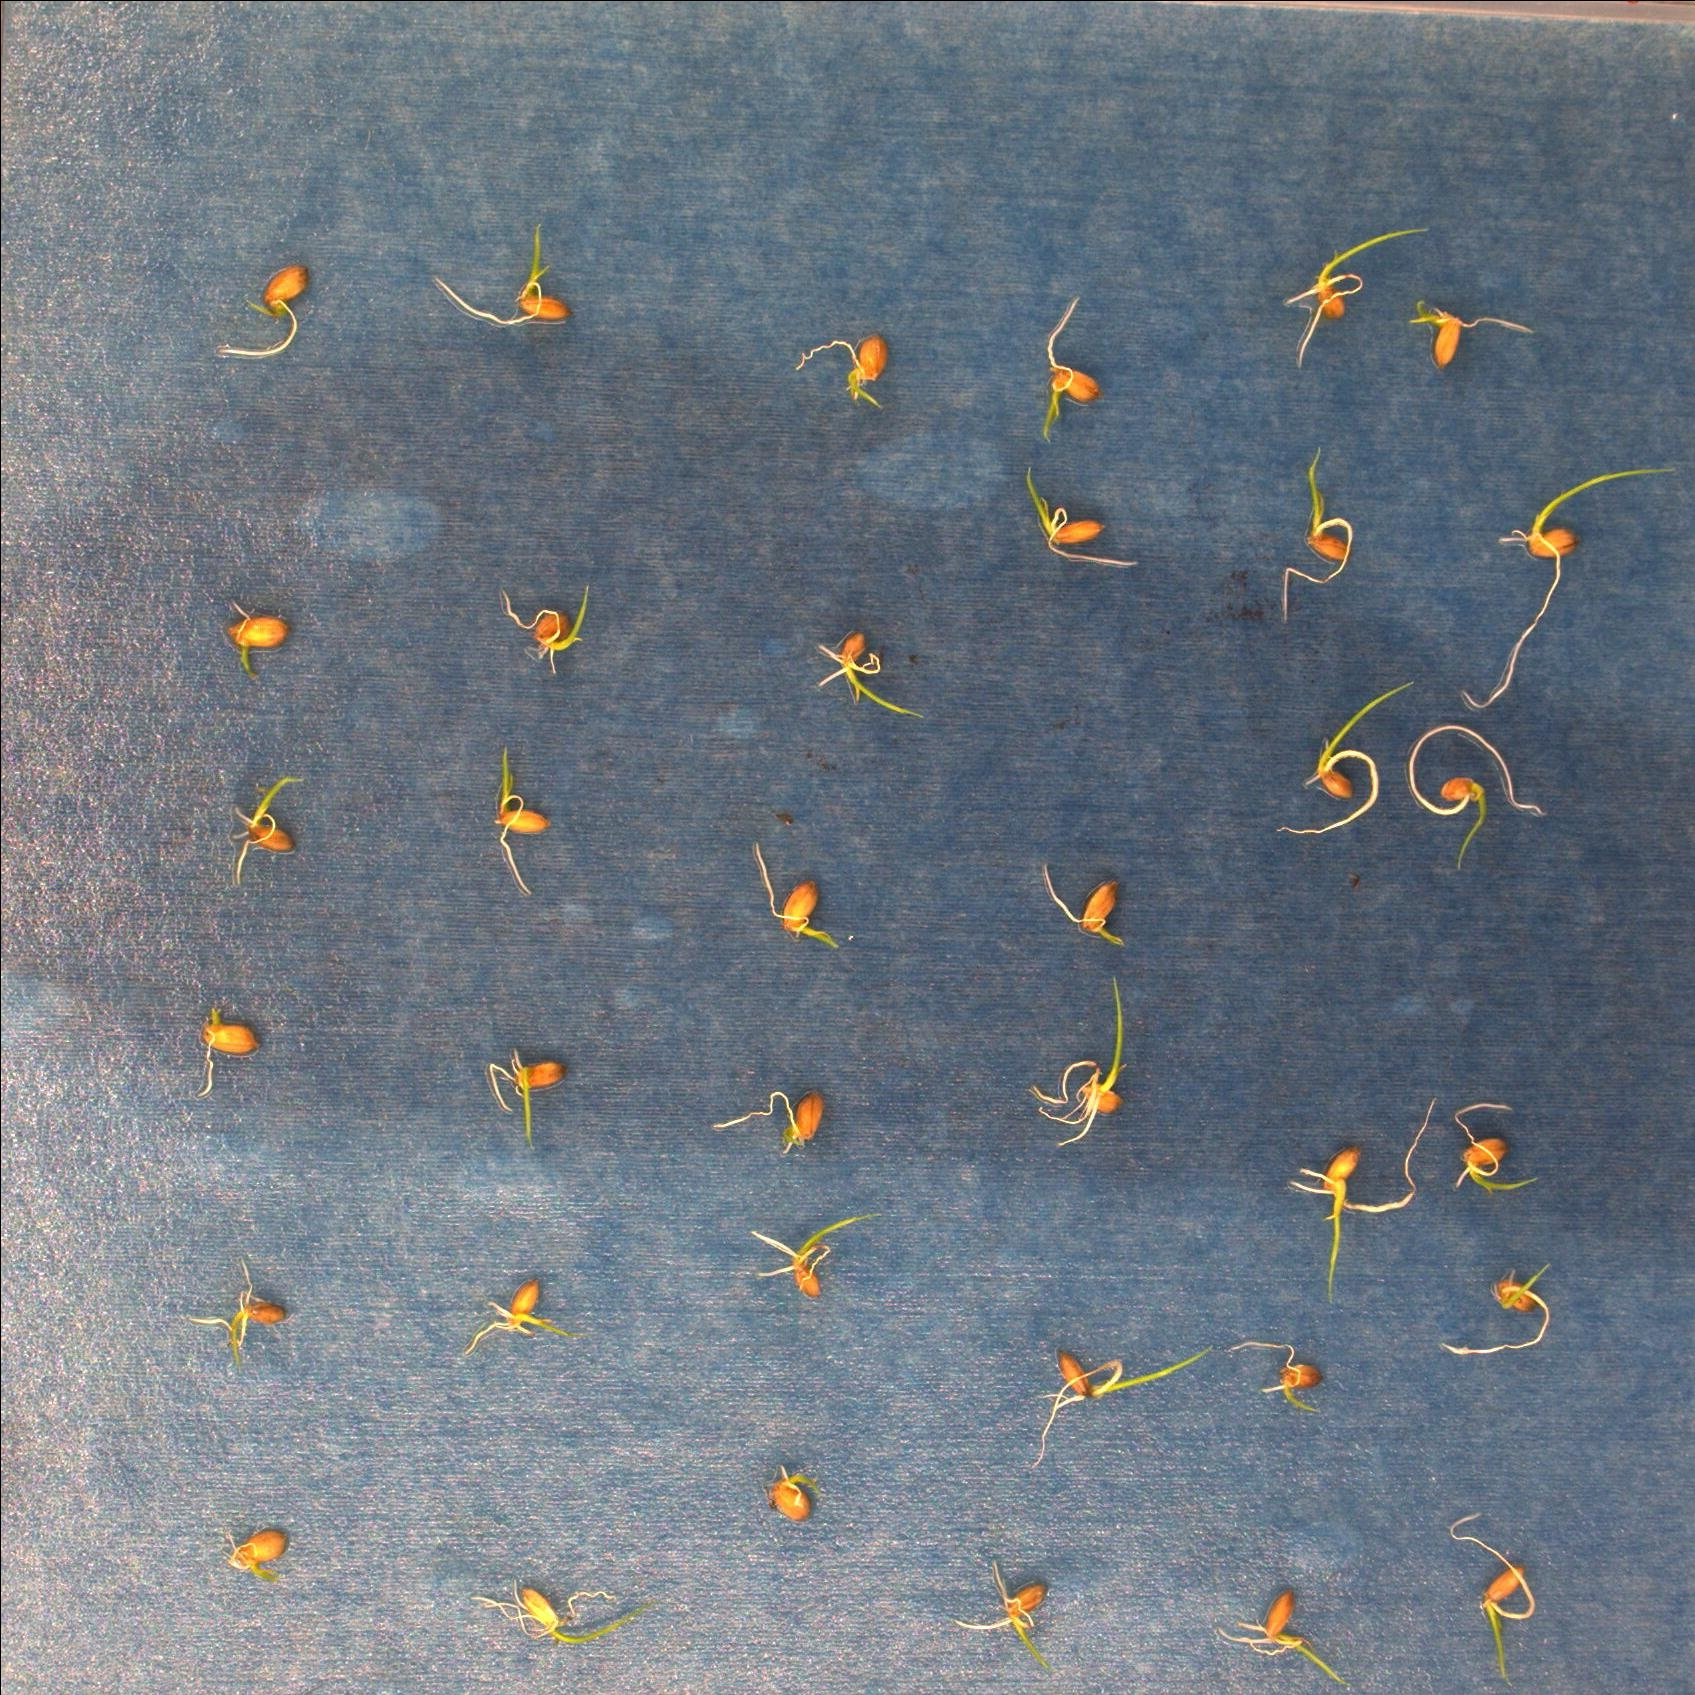not sprout: (211, 250, 328, 374), (1402, 292, 1534, 385), (186, 998, 273, 1104), (757, 1461, 820, 1530)
sprout: (1461, 449, 1684, 720), (1007, 1319, 1222, 1467), (1267, 1139, 1419, 1301), (1277, 210, 1434, 365), (1400, 716, 1549, 875), (1273, 678, 1411, 849), (1444, 1509, 1560, 1683), (439, 210, 581, 341), (1048, 981, 1144, 1161), (467, 1574, 691, 1648), (723, 1205, 877, 1310), (1018, 290, 1124, 441), (1430, 1260, 1569, 1369), (781, 307, 903, 428), (747, 840, 855, 972), (1276, 456, 1367, 612), (216, 762, 321, 896), (796, 612, 910, 730), (477, 740, 562, 889), (1434, 1094, 1535, 1220), (1217, 1594, 1350, 1687), (1226, 1321, 1340, 1430), (189, 1253, 303, 1357), (500, 581, 601, 694), (700, 1080, 841, 1159), (1029, 470, 1138, 573), (1034, 858, 1144, 959), (958, 1558, 1059, 1669), (464, 1256, 557, 1371), (483, 1018, 573, 1121), (217, 585, 290, 677), (213, 1520, 300, 1586)
